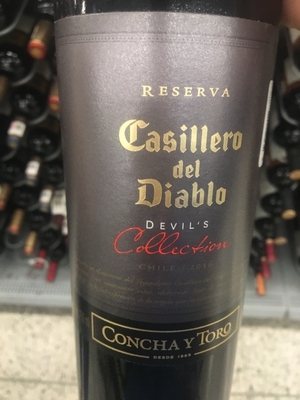casillero del diablo devils collection rojo: (52, 9, 282, 400)
